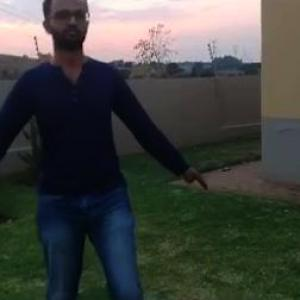land: (0, 0, 231, 299)
